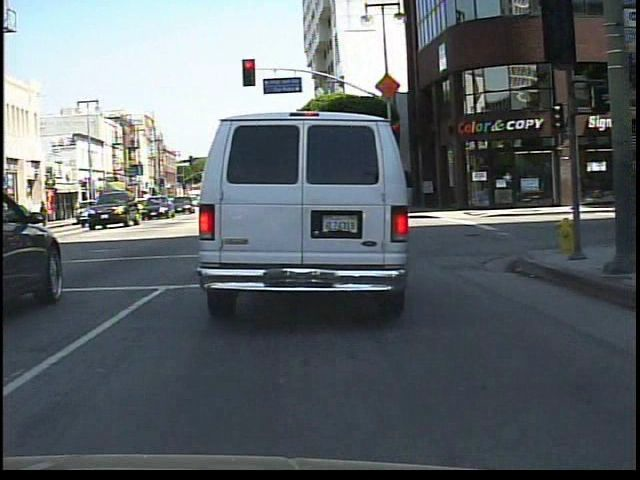person: (37, 197, 54, 213)
